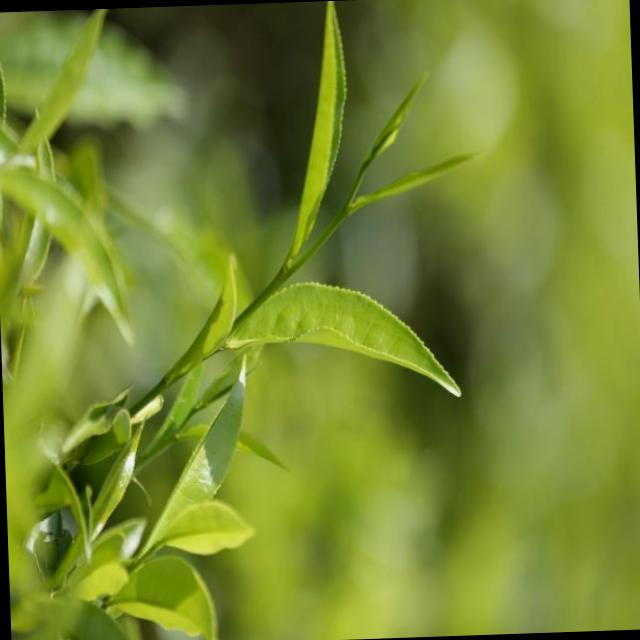Stem: (334, 208, 349, 222)
